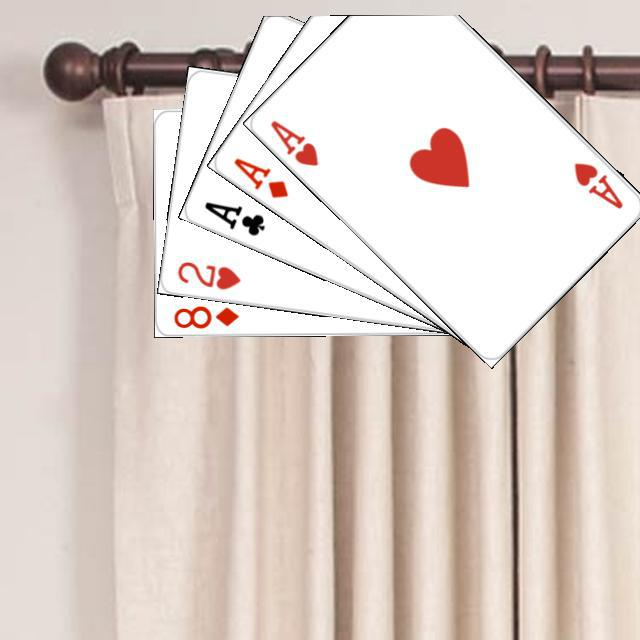2h: (172, 256, 242, 291)
8d: (169, 300, 240, 330)
Ac: (199, 196, 267, 238)
Ad: (228, 152, 290, 200)
Ah: (568, 157, 625, 211), (265, 115, 320, 168)
